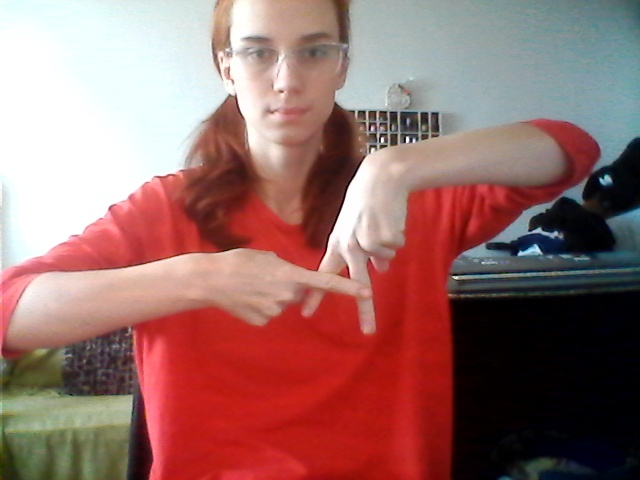a: (250, 237, 396, 346)
